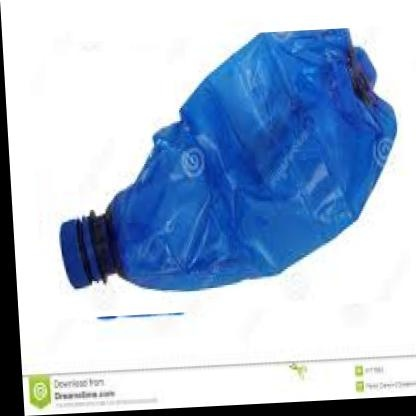trash: (60, 29, 395, 289)
